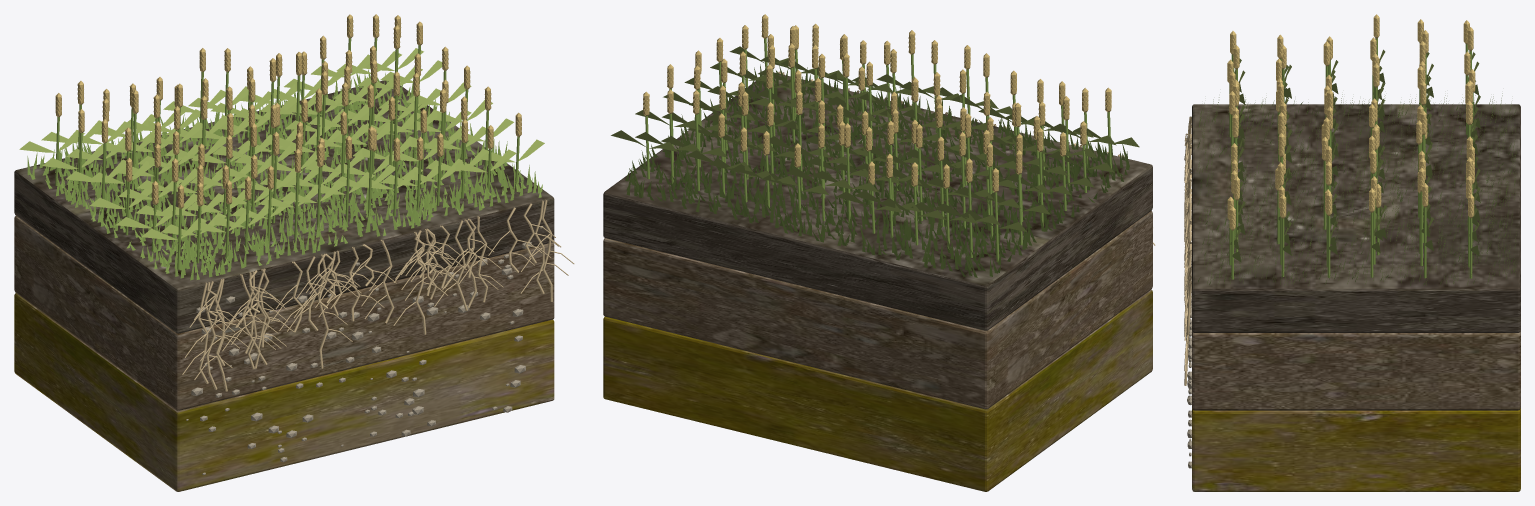
File: root-zone.glb
3 renders of one model, left to right at view 1: azimuth 30°, elevation 25°; view 2: azimuth 150°, elevation 25°; view 3: azimuth 270°, elevation 25°, orthographic.
Visible parts, largest first — view 1: Layer_Topsoil, Layer_Parent, Layer_Subsoil, Surface_Leaves, Surface_Grass, Surface_Grain, Roots_Illustrative_1m, Surface_Stalks, Soil_Aggregates; view 2: Layer_Topsoil, Layer_Parent, Layer_Subsoil, Surface_Grass, Surface_Leaves, Surface_Grain, Surface_Stalks; view 3: Layer_Topsoil, Layer_Parent, Layer_Subsoil, Surface_Grain, Surface_Grass, Surface_Leaves, Surface_Stalks, Roots_Illustrative_1m, Soil_Aggregates.
Part boxes in pixels (x1,y1,x2,y2): Layer_Topsoil: [14, 80, 554, 333]; Layer_Parent: [14, 293, 554, 491]; Layer_Subsoil: [14, 216, 554, 410]; Surface_Leaves: [19, 48, 544, 239]; Surface_Grass: [27, 69, 542, 280]; Surface_Grain: [55, 14, 521, 208]; Roots_Illustrative_1m: [182, 199, 574, 391]; Surface_Stalks: [55, 38, 519, 269]; Soil_Aggregates: [186, 226, 543, 474]; Layer_Topsoil: [603, 72, 1152, 330]; Layer_Parent: [603, 289, 1152, 491]; Layer_Subsoil: [603, 211, 1152, 409]; Surface_Grass: [625, 64, 1129, 277]; Surface_Leaves: [611, 46, 1139, 231]; Surface_Grain: [643, 14, 1111, 192]; Surface_Stalks: [645, 38, 1111, 262]; Layer_Topsoil: [1192, 104, 1520, 332]; Layer_Parent: [1192, 408, 1520, 491]; Layer_Subsoil: [1192, 331, 1520, 410]; Surface_Grain: [1227, 14, 1475, 230]; Surface_Grass: [1197, 93, 1516, 285]; Surface_Leaves: [1230, 49, 1480, 262]; Surface_Stalks: [1229, 38, 1473, 279]; Roots_Illustrative_1m: [1184, 116, 1191, 385]; Soil_Aggregates: [1187, 137, 1191, 468].
Bounding box in the file's own units: 4.34 × 3.08 × 3.07.
Materials: 8 (3 with a texture image).
